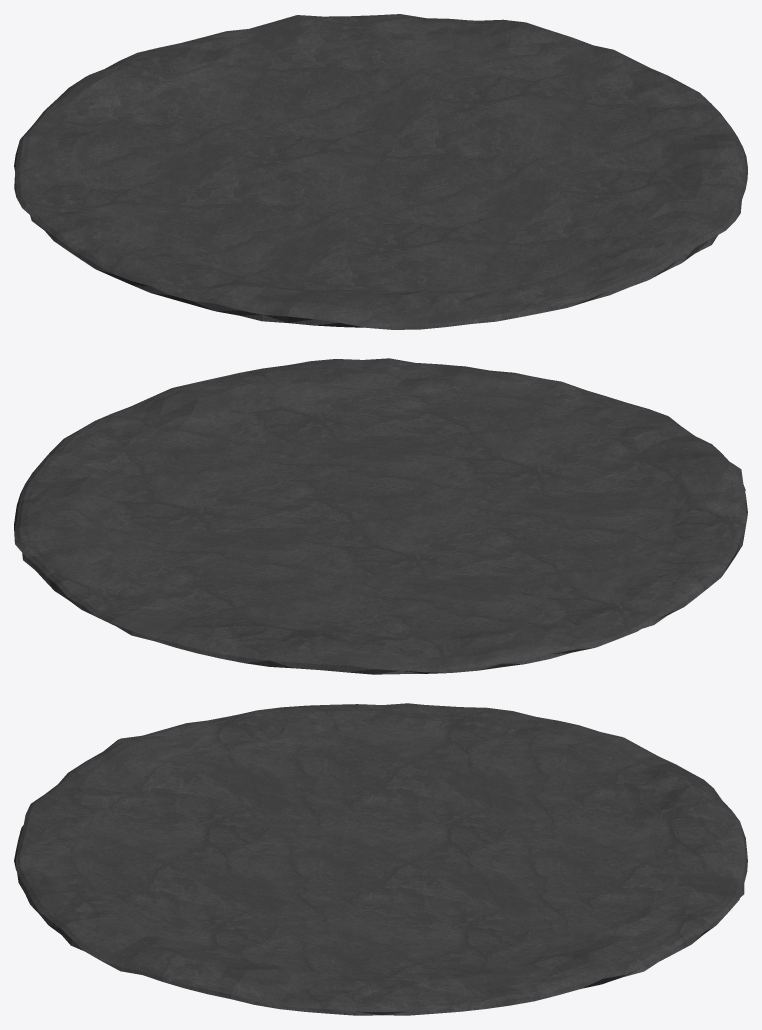
The model's file is FloorDome.fbx.
The picture shows the model from 3 angles, top to bottom: view 1: azimuth 30°, elevation 25°; view 2: azimuth 150°, elevation 25°; view 3: azimuth 270°, elevation 25°; orthographic projection.
Visible parts, largest first — view 1: SM_ENV_NATURE_Cave_Floor_Dome_L.mo; view 2: SM_ENV_NATURE_Cave_Floor_Dome_L.mo; view 3: SM_ENV_NATURE_Cave_Floor_Dome_L.mo.
Part boxes in pixels (x1=…): SM_ENV_NATURE_Cave_Floor_Dome_L.mo: x1=14, y1=14, x2=747, y2=329; SM_ENV_NATURE_Cave_Floor_Dome_L.mo: x1=14, y1=358, x2=747, y2=674; SM_ENV_NATURE_Cave_Floor_Dome_L.mo: x1=14, y1=703, x2=747, y2=1015.
Bounding box in the file's own units: 2635 × 54.83 × 2640.
Materials: 1 (1 with a texture image).
